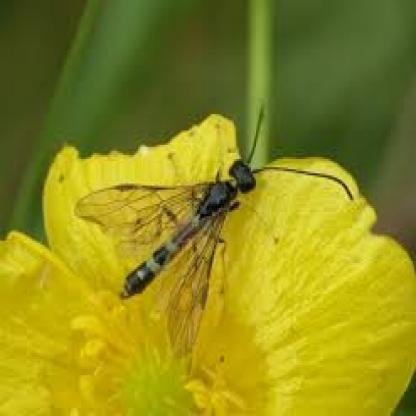sawfly: (76, 106, 356, 374)
